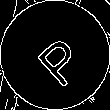P_NW: (25, 24, 85, 86)
